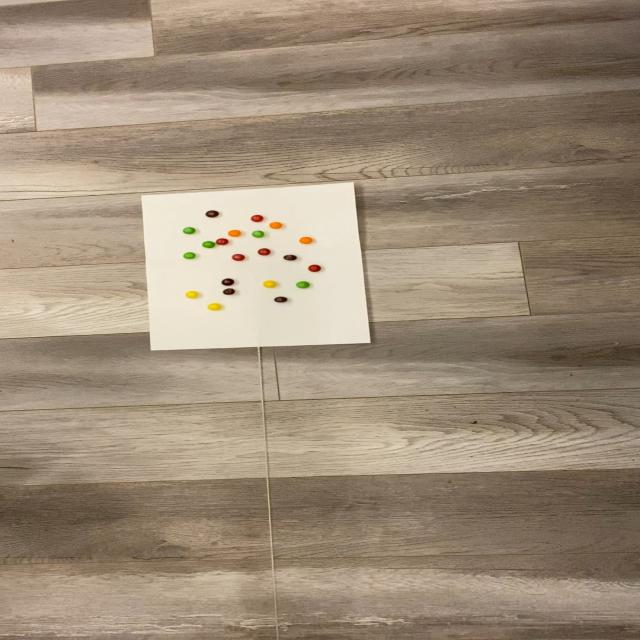smartie: (251, 229, 266, 237), (296, 281, 311, 289), (185, 291, 199, 299), (262, 280, 276, 288), (257, 248, 271, 256), (269, 221, 283, 229), (299, 236, 313, 244), (228, 229, 242, 237), (205, 210, 220, 217), (222, 278, 235, 286), (309, 264, 322, 272), (250, 213, 263, 221), (284, 254, 298, 261), (208, 303, 222, 310), (202, 241, 216, 248), (231, 254, 245, 261), (274, 296, 287, 303), (223, 288, 236, 295), (182, 226, 195, 233), (216, 238, 229, 245), (183, 252, 195, 259)
